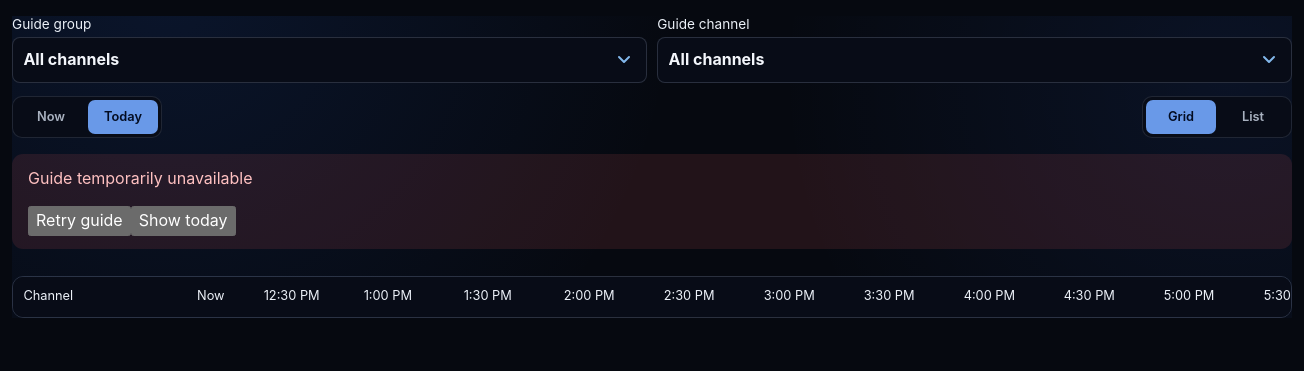
Test: keeps Retry available after an automatic reload fails
The width and height of the screenshot is (1304, 371).
Expected: the message shows "Guide temporarily unavailable", x1=28 y1=168 x2=252 y2=188
Click the button "Retry guide". click: (79, 221)
box: x1=28 y1=206 x2=131 y2=236
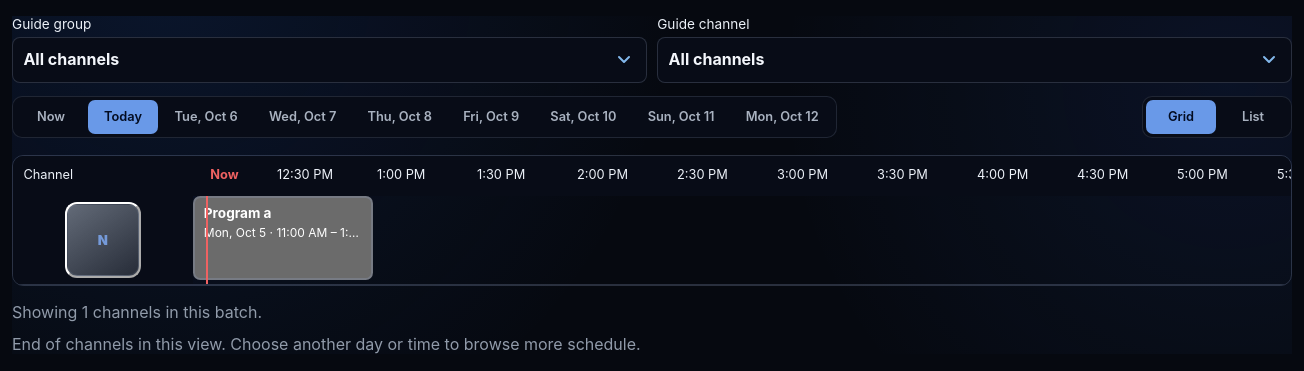
Now the message "Guide temporarily unavailable Retry guide Show today" is gone
